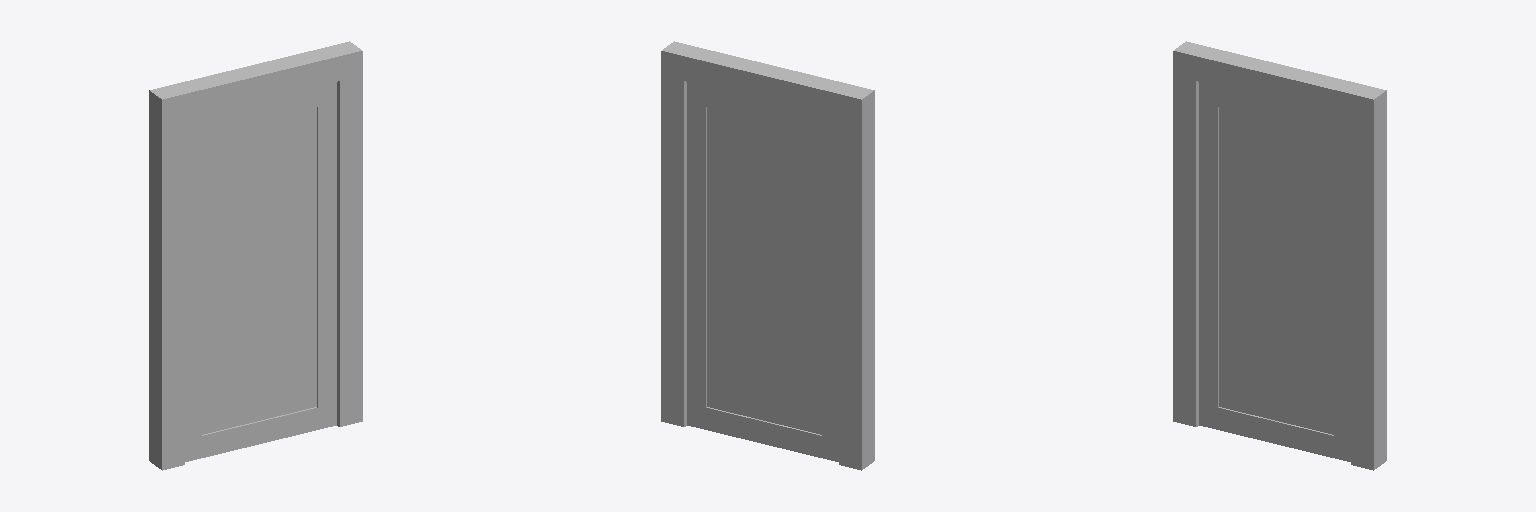
Rendered from Door.obj.
The picture shows the model from 3 angles: view 1: azimuth 30°, elevation 25°; view 2: azimuth 150°, elevation 25°; view 3: azimuth 330°, elevation 25°; orthographic projection.
Parts seen in each view (by area): view 1: Door_Cube.001, Door_Frame_Cube.002; view 2: Door_Cube.001, Door_Frame_Cube.002; view 3: Door_Cube.001, Door_Frame_Cube.002.
Boxes of the visible parts, x1,y1,x2,y2 form: Door_Cube.001: [185, 82, 336, 461]; Door_Frame_Cube.002: [149, 41, 362, 470]; Door_Cube.001: [687, 82, 838, 461]; Door_Frame_Cube.002: [661, 41, 874, 470]; Door_Cube.001: [1199, 82, 1350, 461]; Door_Frame_Cube.002: [1173, 41, 1386, 470].
Size of the model in its own units: 5.46 by 9.65 by 0.6.